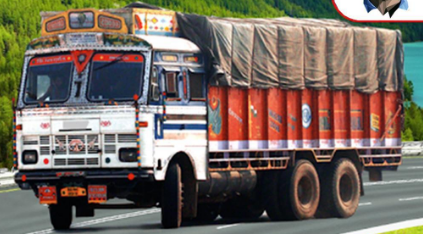truck: (13, 12, 400, 228)
